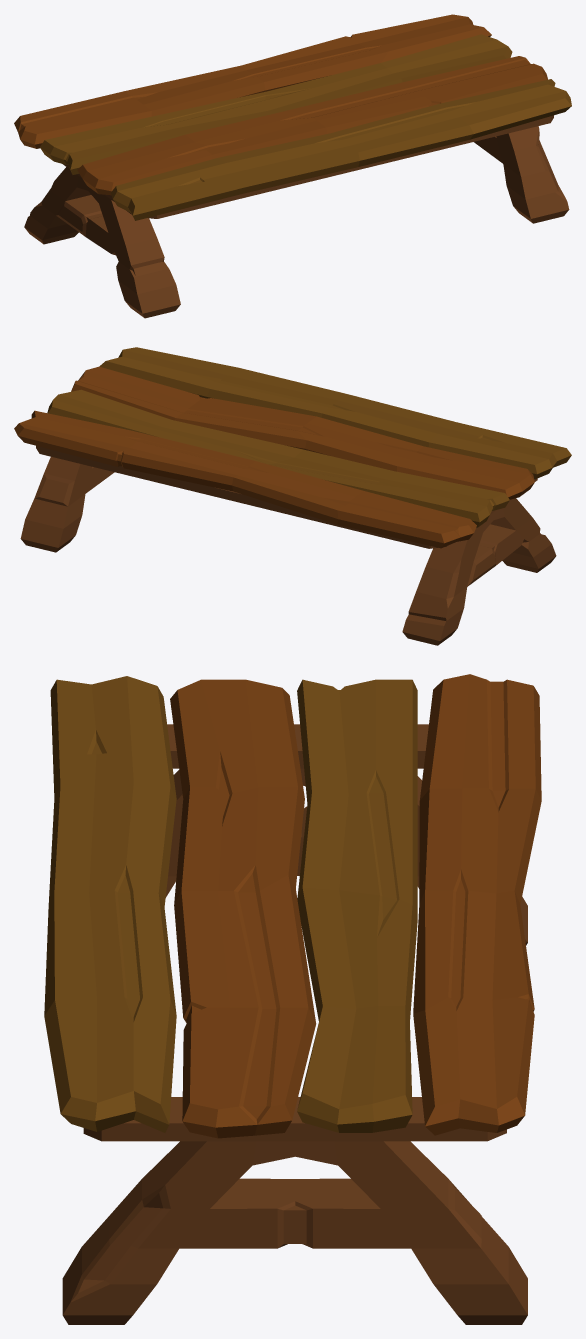
The model's file is TableLong.fbx.
3 views of the same model, one above another, from view 1: azimuth 30°, elevation 25°; view 2: azimuth 150°, elevation 25°; view 3: azimuth 270°, elevation 25° (orthographic). The views are drawn at different scales.
Visible parts, largest first — view 1: Table, Planks, Core; view 2: Planks, Table, Core; view 3: Planks, Table, Core.
Part boxes in pixels (x1,y1,x2,y2): Table: [40, 34, 571, 220]; Planks: [14, 14, 547, 195]; Core: [24, 115, 569, 318]; Planks: [14, 366, 534, 548]; Table: [47, 347, 571, 527]; Core: [20, 446, 556, 645]; Planks: [170, 674, 541, 1138]; Table: [44, 676, 417, 1132]; Core: [62, 724, 527, 1324].
Size of the model in its own units: 298 by 73.46 by 141.
